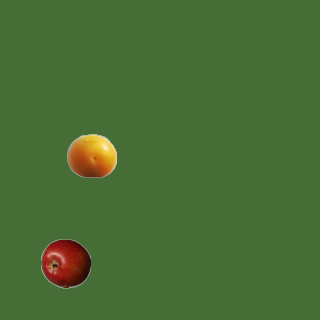Apple Braeburn: (40, 238, 90, 288)
Cherry Wax Yellow: (66, 130, 116, 180)
